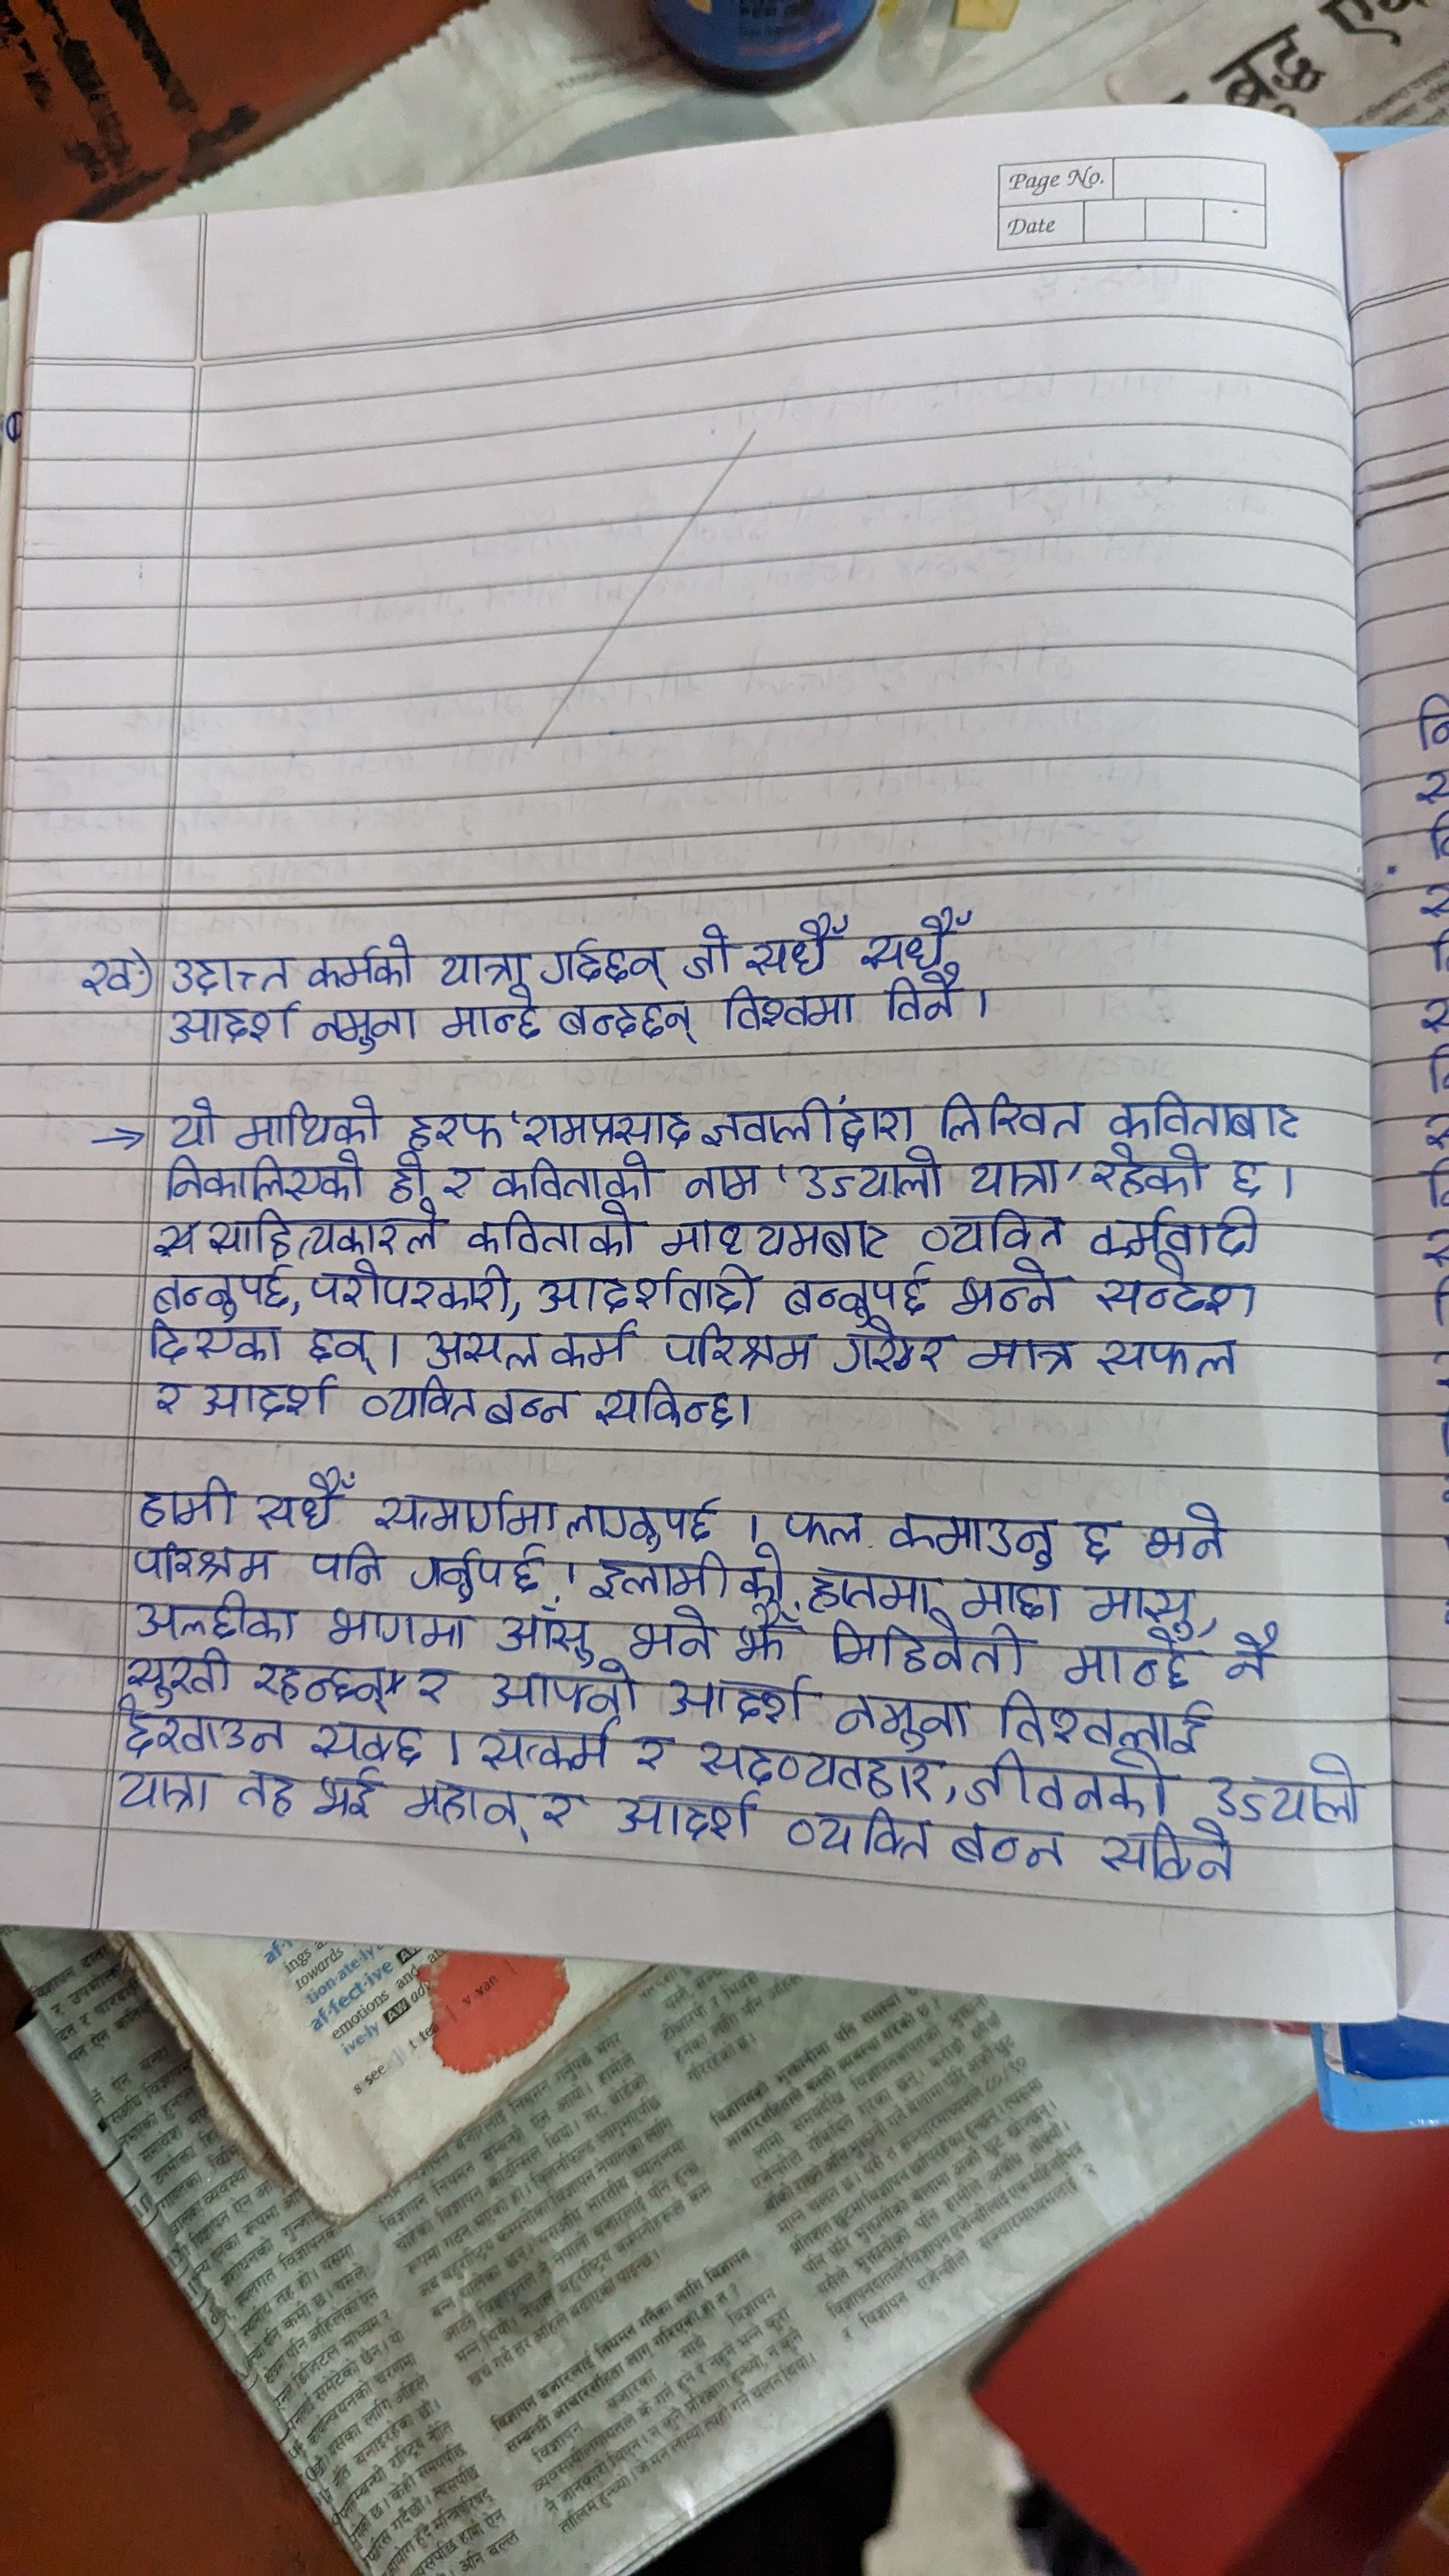text: (966, 1750, 1169, 1819), (536, 1261, 773, 1318), (994, 1684, 1217, 1744), (697, 1739, 950, 1789), (211, 1207, 442, 1258), (1095, 1822, 1247, 1898), (1210, 1752, 1373, 1821), (589, 1545, 787, 1601), (704, 1099, 916, 1150), (662, 1212, 888, 1260), (156, 1154, 366, 1205), (1086, 1203, 1270, 1260), (1093, 1261, 1277, 1318), (310, 1260, 518, 1309), (780, 1799, 931, 1867), (888, 1509, 1063, 1564), (494, 1154, 667, 1207), (131, 1589, 297, 1644), (1109, 1093, 1306, 1139), (561, 1493, 741, 1543), (1093, 1329, 1254, 1384), (929, 1086, 1095, 1139), (145, 1260, 295, 1318), (402, 1773, 527, 1842), (612, 1789, 764, 1845), (780, 1261, 936, 1316), (524, 1100, 688, 1152), (481, 1660, 639, 1713), (375, 1486, 556, 1532), (663, 1667, 814, 1721), (796, 1152, 945, 1207), (409, 1539, 552, 1596), (117, 1707, 292, 1753), (467, 1208, 635, 1256), (594, 1378, 745, 1431), (239, 1095, 386, 1146), (915, 1208, 1072, 1256), (658, 1323, 816, 1371), (945, 1260, 1077, 1316), (835, 1684, 977, 1737), (1079, 1575, 1207, 1633), (304, 929, 416, 994), (872, 973, 984, 1039), (740, 911, 853, 975), (202, 1373, 341, 1424), (478, 1716, 612, 1769), (858, 906, 970, 970), (131, 1536, 274, 1585), (326, 1605, 469, 1654), (248, 1465, 356, 1530), (835, 1316, 948, 1378), (304, 1709, 428, 1766), (249, 1660, 393, 1707), (948, 1819, 1072, 1874), (1143, 1491, 1237, 1560), (354, 1373, 478, 1424), (168, 1001, 295, 1051), (143, 1320, 285, 1364), (127, 1472, 237, 1529), (1090, 1143, 1201, 1198), (961, 1146, 1072, 1201), (674, 1155, 787, 1208), (488, 1603, 596, 1658), (809, 1566, 941, 1610), (124, 1647, 234, 1700), (561, 1000, 701, 1040), (545, 938, 671, 982), (725, 989, 849, 1033), (402, 1097, 506, 1148), (173, 950, 288, 996), (435, 987, 541, 1037), (970, 1332, 1076, 1382), (111, 1764, 211, 1817), (311, 1005, 418, 1053), (294, 1322, 393, 1371), (423, 1329, 543, 1369), (487, 1380, 579, 1433), (550, 1320, 642, 1373), (959, 1575, 1063, 1621), (623, 1605, 715, 1656), (303, 1541, 389, 1592), (432, 941, 534, 984), (315, 1767, 386, 1826), (773, 1506, 878, 1545), (235, 1764, 304, 1822), (1226, 1617, 1283, 1683), (679, 920, 736, 982), (1215, 1154, 1286, 1203), (165, 1088, 221, 1148), (76, 952, 138, 1005), (1076, 1513, 1129, 1566), (377, 1154, 433, 1201), (541, 1787, 584, 1836), (441, 1155, 481, 1205), (414, 1663, 458, 1707), (149, 1376, 189, 1424), (630, 1730, 671, 1773)
